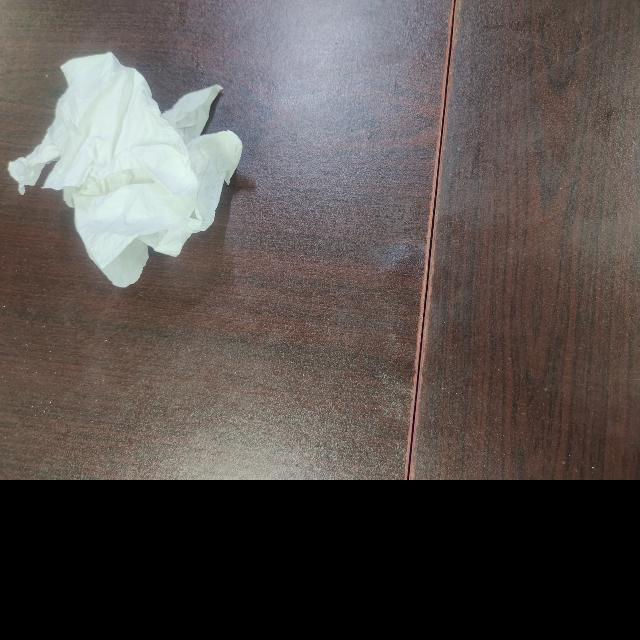kitchen paper: (2, 46, 246, 292)
